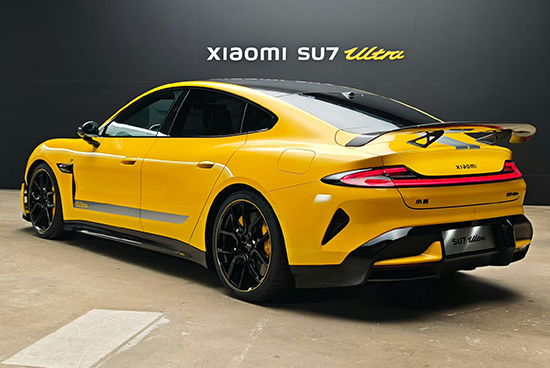su7: (15, 74, 534, 297)
